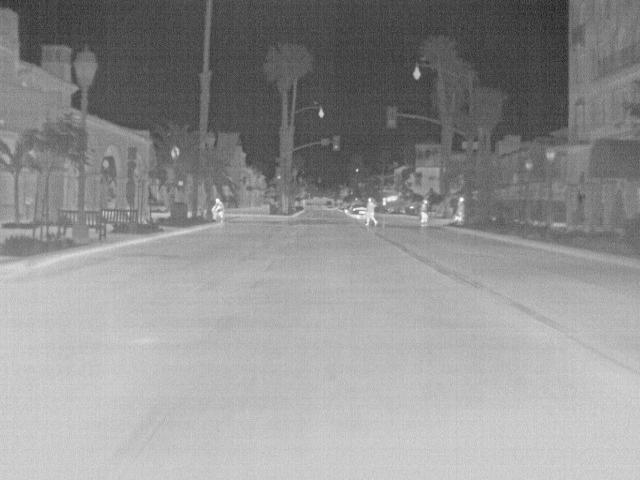car: (348, 200, 366, 218)
person: (366, 196, 380, 228), (419, 198, 432, 225), (212, 197, 228, 218), (454, 195, 467, 219)
